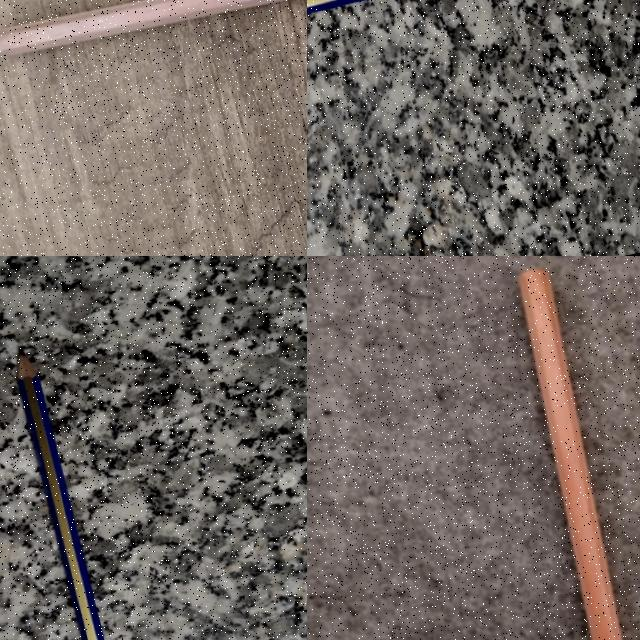pencil: (519, 269, 621, 639), (18, 349, 103, 639), (0, 0, 286, 55), (307, 0, 363, 15)
